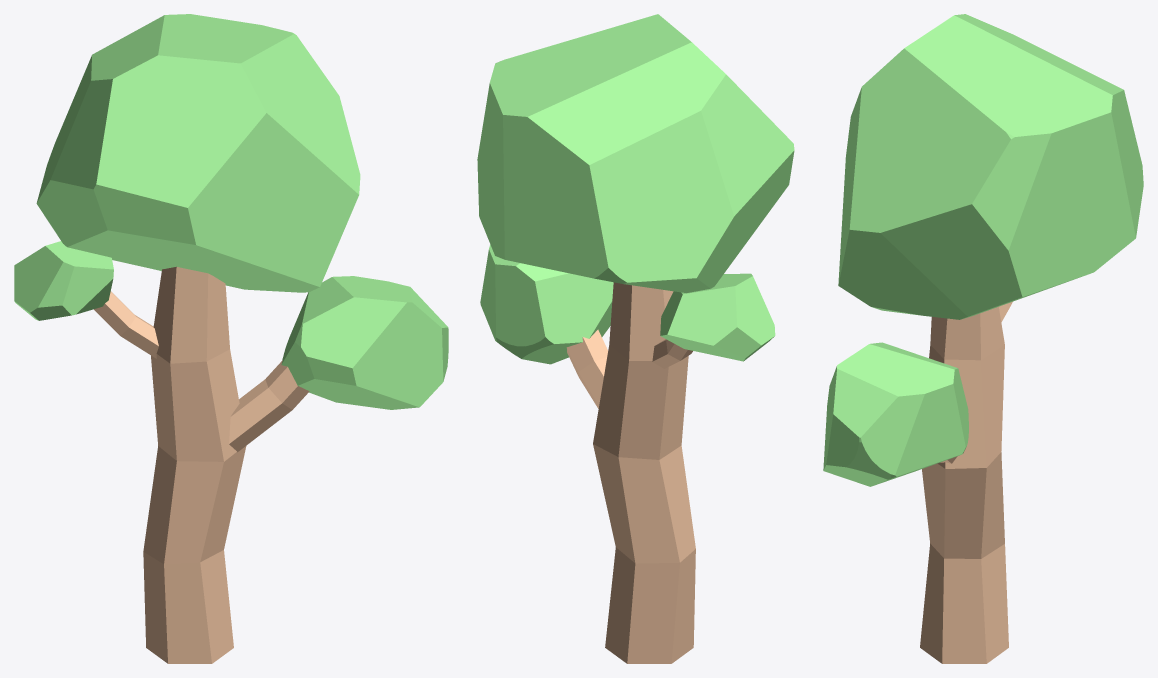
Rendered from tree.glb.
3 renders of one model, left to right at view 1: azimuth 30°, elevation 25°; view 2: azimuth 150°, elevation 25°; view 3: azimuth 270°, elevation 25°, orthographic.
Visible parts, largest first — view 1: Leaf3, Trunk, Leaf1, Leaf2, Branch1, Branch2; view 2: Leaf3, Trunk, Leaf1, Leaf2, Branch1, Branch2; view 3: Leaf3, Trunk, Leaf1.
Boxes of the visible parts, <box> form: Leaf3: <box>36,14,360,292</box>; Trunk: <box>143,266,246,663</box>; Leaf1: <box>281,276,448,409</box>; Leaf2: <box>14,241,113,320</box>; Branch1: <box>229,360,309,452</box>; Branch2: <box>94,291,158,358</box>; Leaf3: <box>477,14,794,293</box>; Trunk: <box>593,282,695,663</box>; Leaf1: <box>480,244,613,364</box>; Leaf2: <box>660,273,775,361</box>; Branch1: <box>566,329,607,408</box>; Branch2: <box>652,339,692,368</box>; Leaf3: <box>838,14,1143,319</box>; Trunk: <box>920,307,1008,663</box>; Leaf1: <box>823,342,968,486</box>.
Size of the model in its own units: 1.84 by 3.04 by 1.44.
